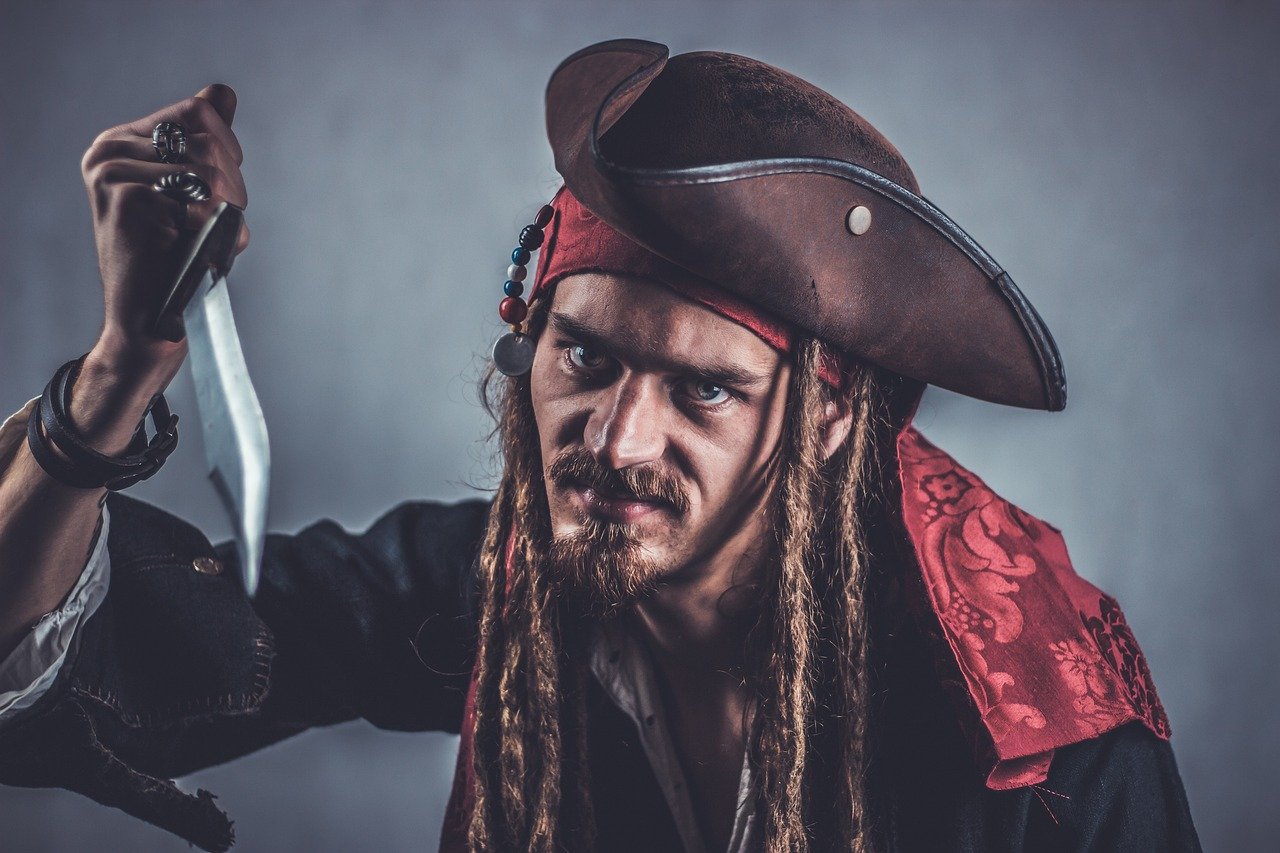knife: (127, 103, 294, 608)
